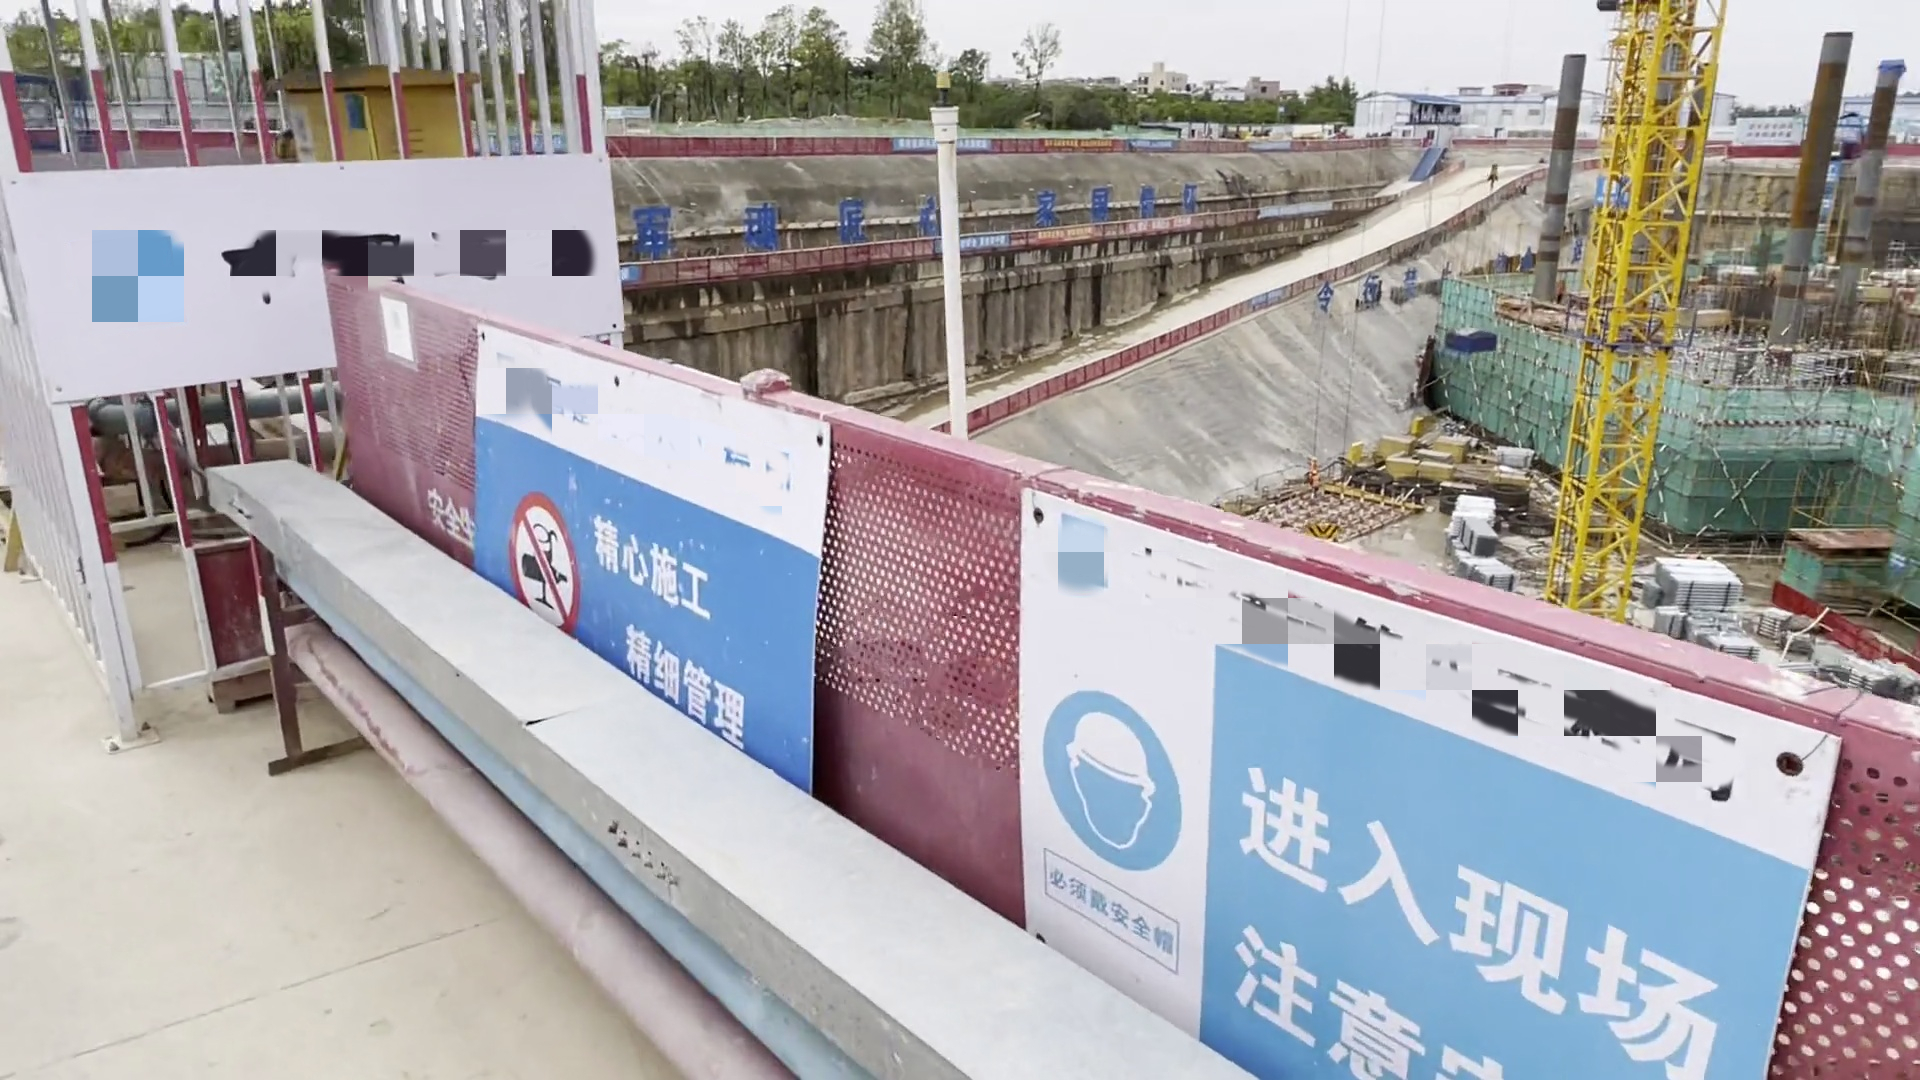ebox: (266, 45, 493, 161)
fence: (837, 425, 1025, 884)
hook: (1305, 520, 1340, 545), (1487, 160, 1501, 194)
slogan: (1006, 483, 1840, 1080), (458, 331, 845, 814)
